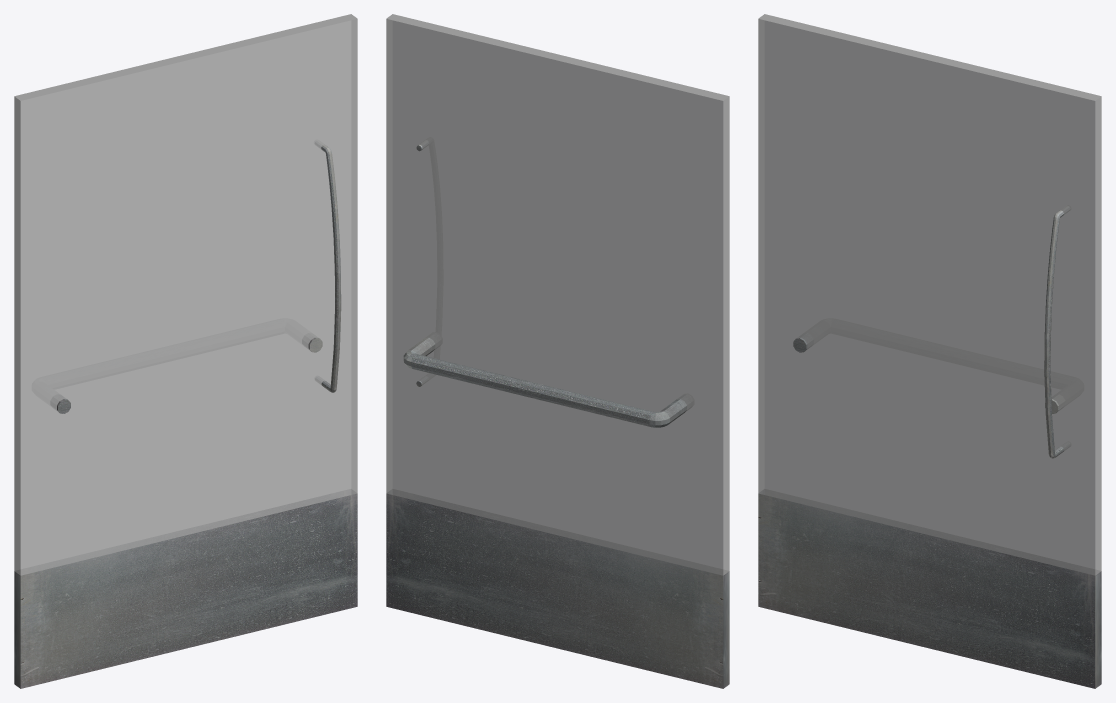
Rendered from mesh_dyn_door_glass01.fbx.
3 renders of one model, left to right at view 1: azimuth 30°, elevation 25°; view 2: azimuth 150°, elevation 25°; view 3: azimuth 330°, elevation 25°, orthographic.
Parts seen in each view (by area): view 1: mesh_dyn_door_glass01; view 2: mesh_dyn_door_glass01; view 3: mesh_dyn_door_glass01.
Part boxes in pixels (box(x1,y1,x2,y2)): mesh_dyn_door_glass01: box(14, 14, 357, 688); mesh_dyn_door_glass01: box(386, 14, 729, 688); mesh_dyn_door_glass01: box(758, 14, 1101, 688).
Bounding box in the file's own units: 150 × 250 × 35.81.
